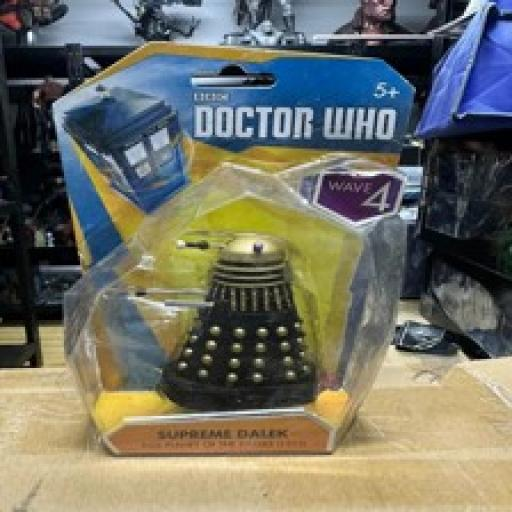dalek: (133, 232, 324, 414)
